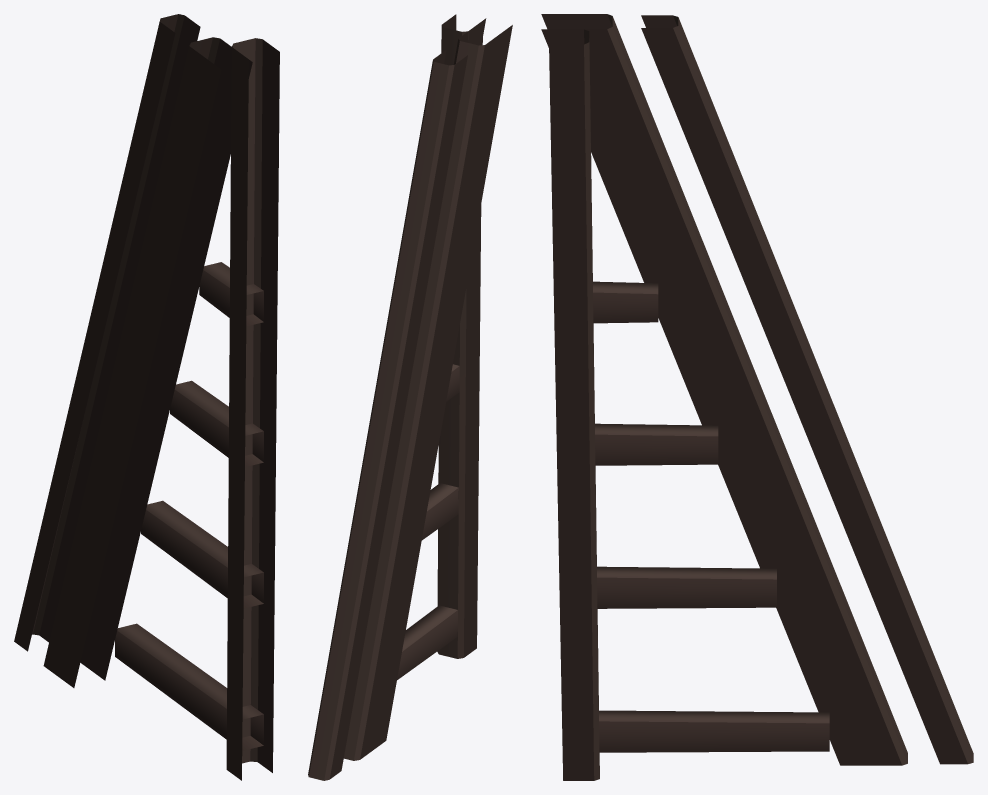
Rendered from Stairs Wall 02.FBX.
3 views of the same model, side by side, from view 1: azimuth 30°, elevation 25°; view 2: azimuth 150°, elevation 25°; view 3: azimuth 270°, elevation 25° (orthographic). The views are drawn at different scales.
Parts seen in each view (by area): view 1: Stairs Wall 02; view 2: Stairs Wall 02; view 3: Stairs Wall 02.
Boxes of the visible parts, <box> form: Stairs Wall 02: <box>14,14,279,780</box>; Stairs Wall 02: <box>308,14,512,780</box>; Stairs Wall 02: <box>541,14,973,780</box>.
Size of the model in its own units: 37.12 by 416 by 221.
